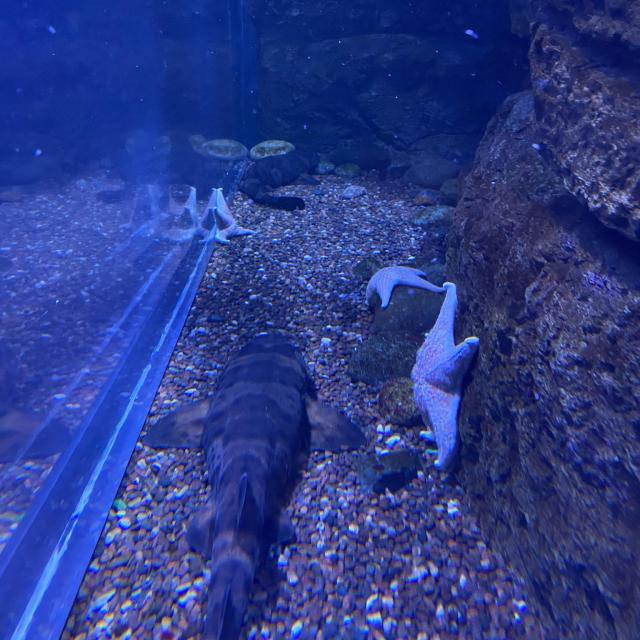shark: (151, 328, 354, 639)
starfish: (410, 290, 479, 470), (351, 262, 443, 308), (206, 188, 257, 245)
